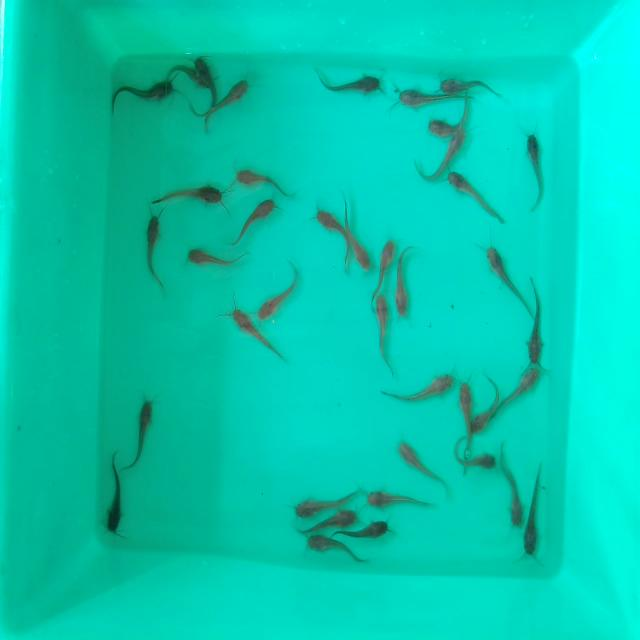lele: (447, 165, 503, 217), (486, 240, 526, 310), (258, 264, 301, 321), (419, 135, 466, 186), (100, 454, 126, 544), (502, 359, 546, 412), (378, 371, 453, 402), (291, 486, 352, 520), (313, 68, 387, 96), (525, 276, 550, 358), (316, 199, 346, 267), (521, 130, 547, 208), (524, 463, 546, 552), (441, 72, 502, 104), (215, 75, 258, 120), (346, 198, 372, 272), (109, 79, 173, 109), (501, 446, 524, 528), (238, 196, 280, 239), (194, 54, 216, 136), (145, 214, 169, 288), (132, 396, 157, 467), (394, 240, 416, 320), (365, 483, 425, 511), (367, 288, 390, 361), (372, 226, 399, 288), (395, 441, 439, 478), (452, 440, 499, 474), (304, 539, 359, 568), (184, 245, 250, 269), (223, 306, 261, 346), (429, 102, 473, 136), (454, 378, 474, 452), (152, 184, 223, 204), (475, 376, 501, 429), (236, 165, 288, 190), (394, 84, 442, 108), (294, 512, 356, 530), (349, 520, 395, 542), (165, 61, 198, 86)
